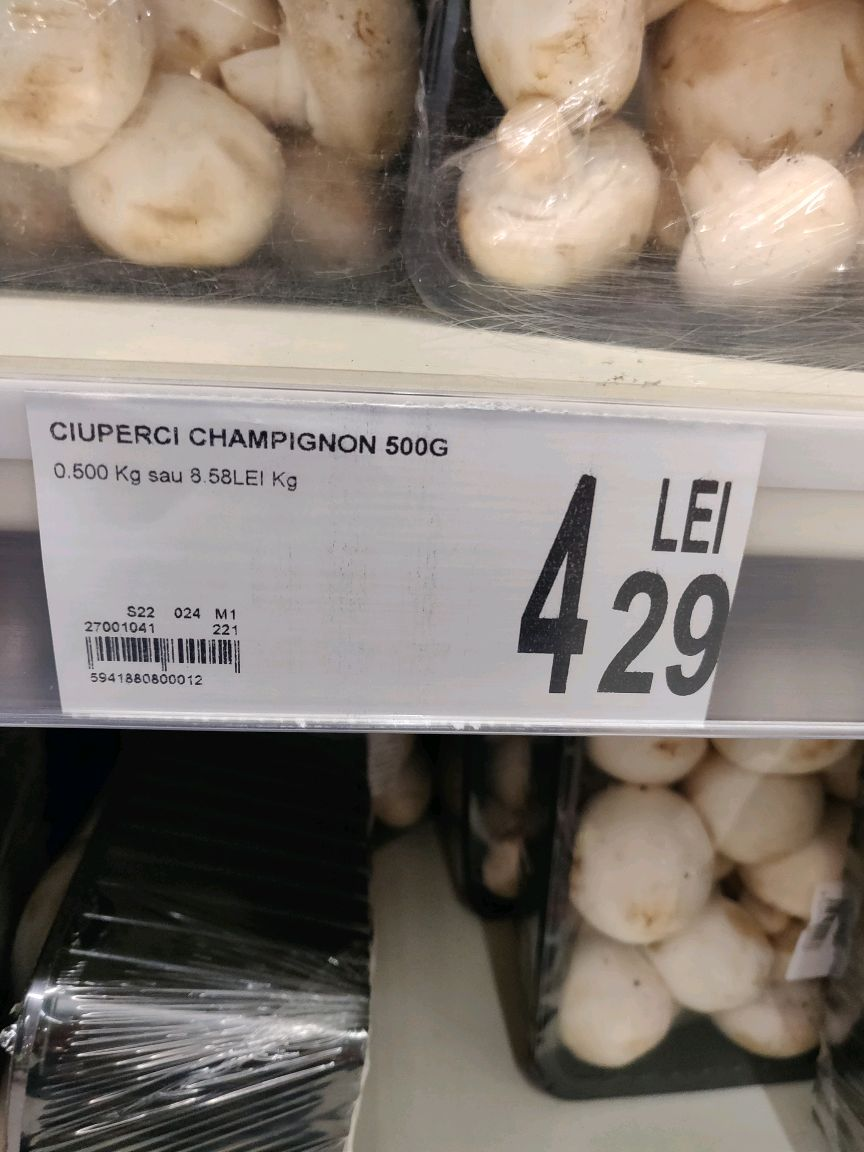price_bani: (591, 562, 740, 711)
price_lei: (512, 463, 598, 704)
price_tag: (1, 349, 779, 771)
product_id: (82, 671, 217, 688)
product_name: (38, 410, 464, 463)
